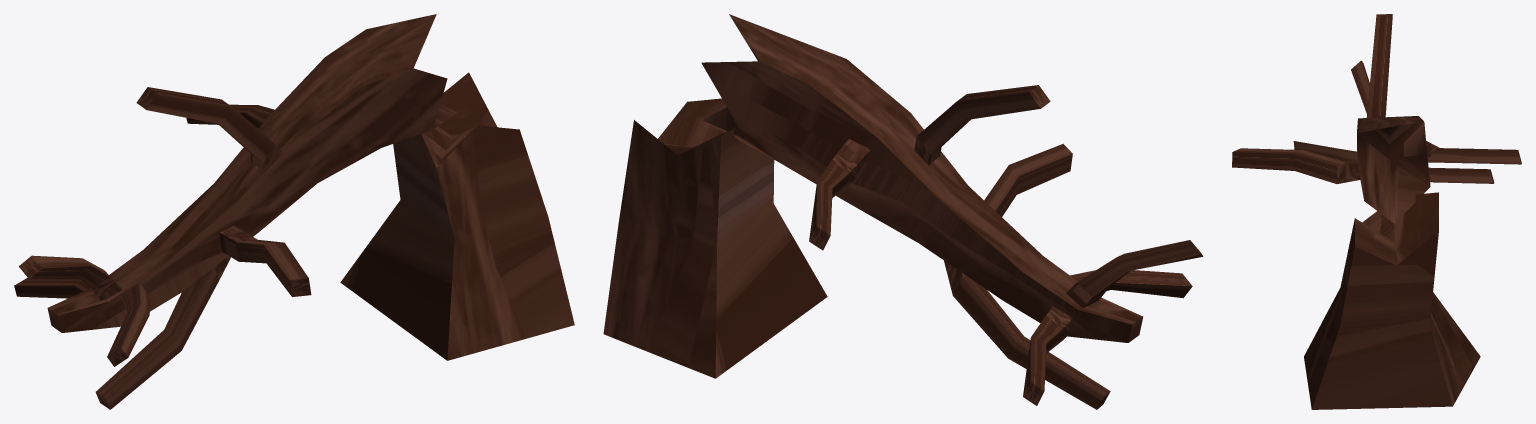
File: TOUBOKU.fbx
3 views of the same model, side by side, from view 1: azimuth 30°, elevation 25°; view 2: azimuth 150°, elevation 25°; view 3: azimuth 270°, elevation 25° (orthographic). The views are drawn at different scales.
Parts seen in each view (by area): view 1: KI1Shape; view 2: KI1Shape; view 3: KI1Shape.
Boxes of the visible parts, bbox=[...] form: KI1Shape: bbox=[14, 14, 574, 409]; KI1Shape: bbox=[603, 14, 1203, 409]; KI1Shape: bbox=[1232, 14, 1521, 409].
Bounding box in the file's own units: 97.39 × 53.38 × 56.36.
